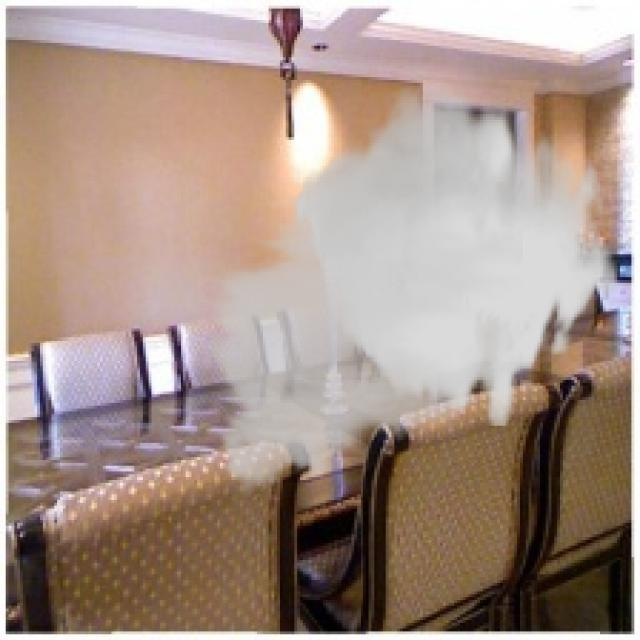Smoke: (195, 86, 620, 506)
